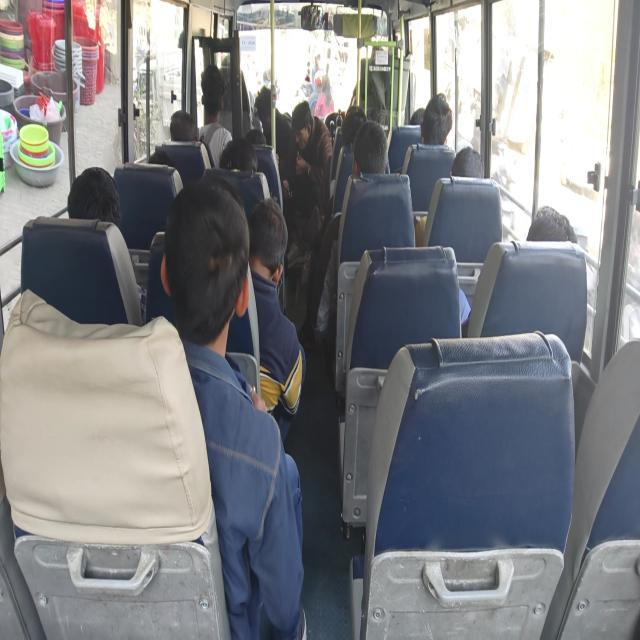person: (158, 177, 308, 638), (231, 197, 306, 443), (315, 120, 389, 341), (66, 166, 144, 325), (526, 205, 598, 308), (253, 85, 296, 197), (198, 64, 232, 168), (291, 100, 332, 183), (219, 137, 270, 203), (67, 166, 121, 226), (352, 120, 388, 176), (526, 205, 578, 243), (420, 92, 453, 146), (219, 137, 258, 171), (340, 104, 367, 147), (450, 146, 486, 178), (169, 110, 198, 142), (314, 74, 334, 120)
